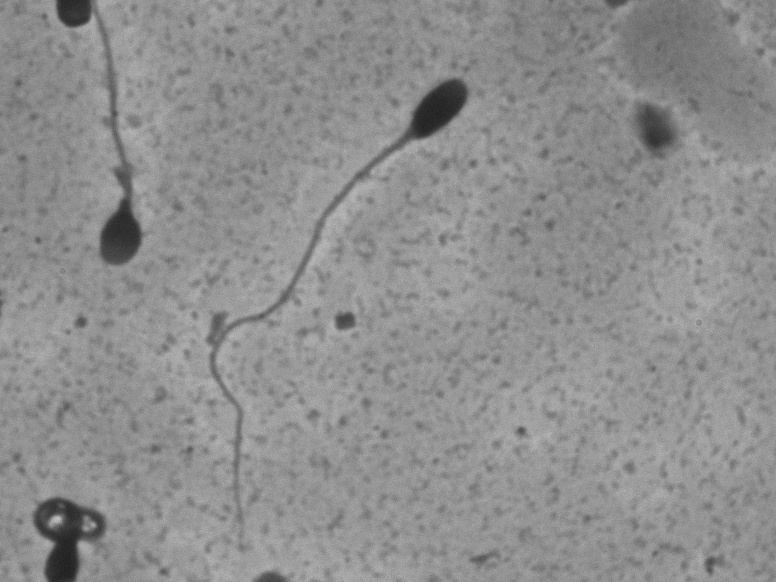Abnormal: (198, 51, 487, 560), (40, 22, 157, 283)
